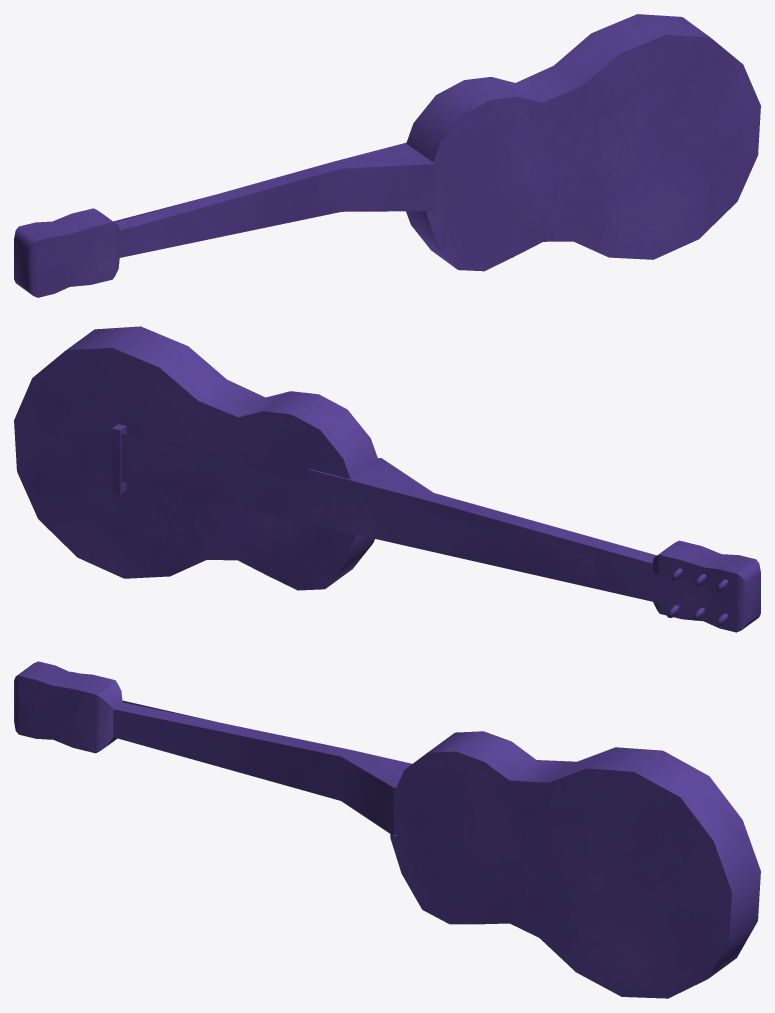
The model's file is guitar.fbx.
3 renders of one model, top to bottom at view 1: azimuth 30°, elevation 25°; view 2: azimuth 150°, elevation 25°; view 3: azimuth 330°, elevation 25°, orthographic. The views are drawn at different scales.
Parts seen in each view (by area): view 1: pSphere13; view 2: pSphere13; view 3: pSphere13.
Boxes of the visible parts, x1,y1,x2,y2 form: pSphere13: (14,14,760,297); pSphere13: (14,326,760,632); pSphere13: (14,661,760,998).
Size of the model in its own units: 3.8 by 1.12 by 0.3793.
